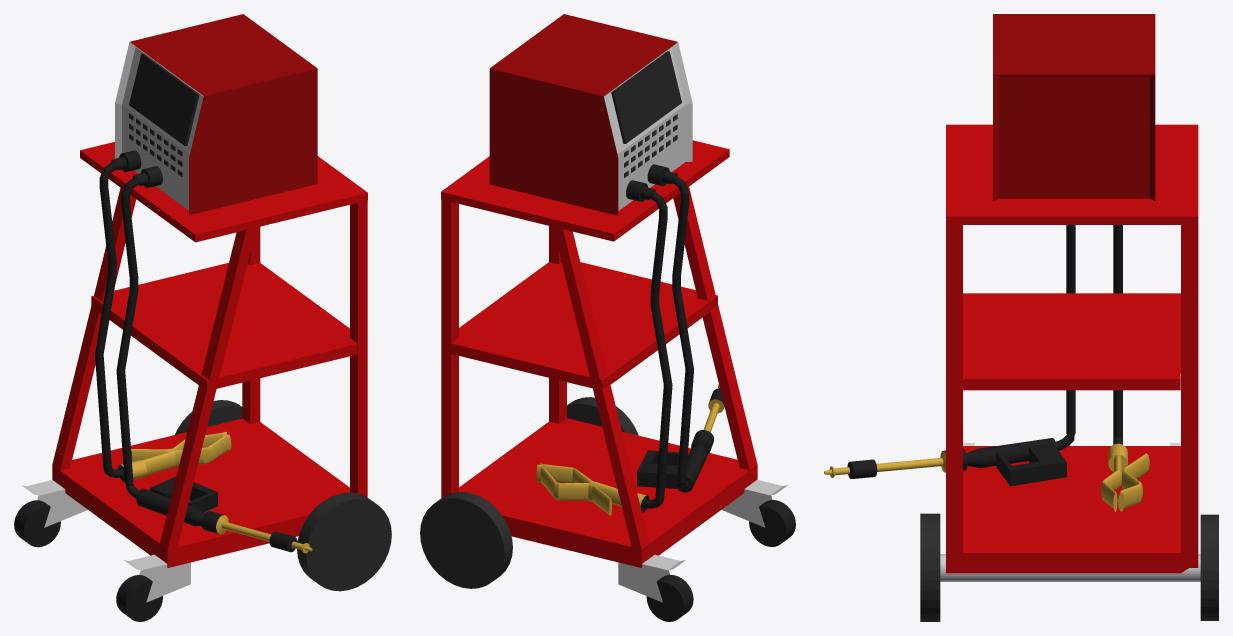
File: mesin las.fbx
The picture shows the model from 3 angles, left to right: view 1: azimuth 30°, elevation 25°; view 2: azimuth 150°, elevation 25°; view 3: azimuth 270°, elevation 25°; orthographic projection. The views are drawn at different scales.
Parts seen in each view (by area): view 1: Cube, Cube.001, Cylinder.002, Cylinder.001, Cylinder, Cube.005, Cylinder.003, Cylinder.004; view 2: Cube, Cube.001, Cylinder.002, Cylinder.001, Cylinder, Cube.005, Cylinder.004, Cylinder.003; view 3: Cube, Cube.001, Cylinder.002, Cylinder.001, Cylinder.
Part boxes in pixels (x1,y1,x2,y2): Cube: [52, 142, 367, 567]; Cube.001: [115, 14, 317, 215]; Cylinder.002: [175, 400, 391, 591]; Cylinder.001: [116, 166, 312, 553]; Cylinder: [95, 150, 231, 481]; Cube.005: [129, 53, 199, 145]; Cylinder.003: [116, 554, 190, 621]; Cylinder.004: [14, 480, 87, 547]; Cube: [441, 140, 757, 567]; Cube.001: [489, 14, 692, 215]; Cylinder.002: [420, 397, 638, 588]; Cylinder.001: [636, 164, 724, 492]; Cylinder: [536, 180, 672, 515]; Cube.005: [611, 51, 681, 143]; Cylinder.004: [618, 554, 693, 621]; Cylinder.003: [721, 479, 795, 546]; Cube: [946, 124, 1198, 573]; Cube.001: [993, 14, 1155, 200]; Cylinder.002: [920, 513, 1218, 621]; Cylinder.001: [824, 225, 1075, 486]; Cylinder: [1101, 225, 1149, 511].
Size of the model in its own units: 253 by 475 by 313.
